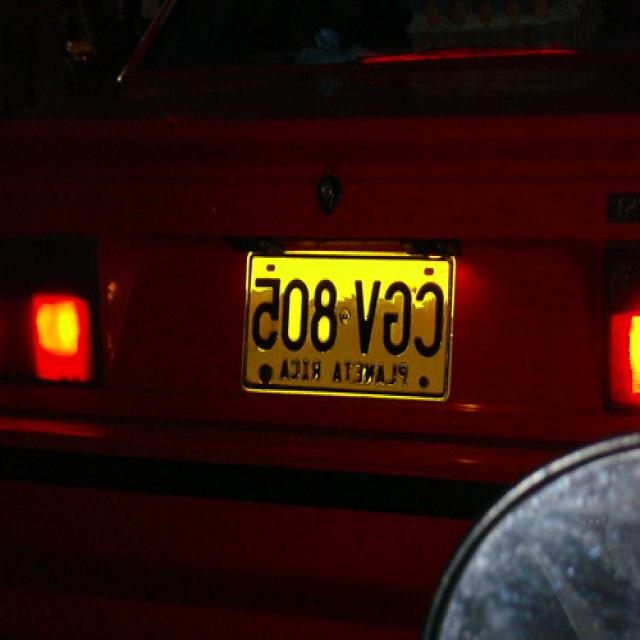placas: (246, 272, 447, 359)
